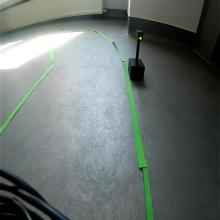green: (135, 29, 144, 42)
